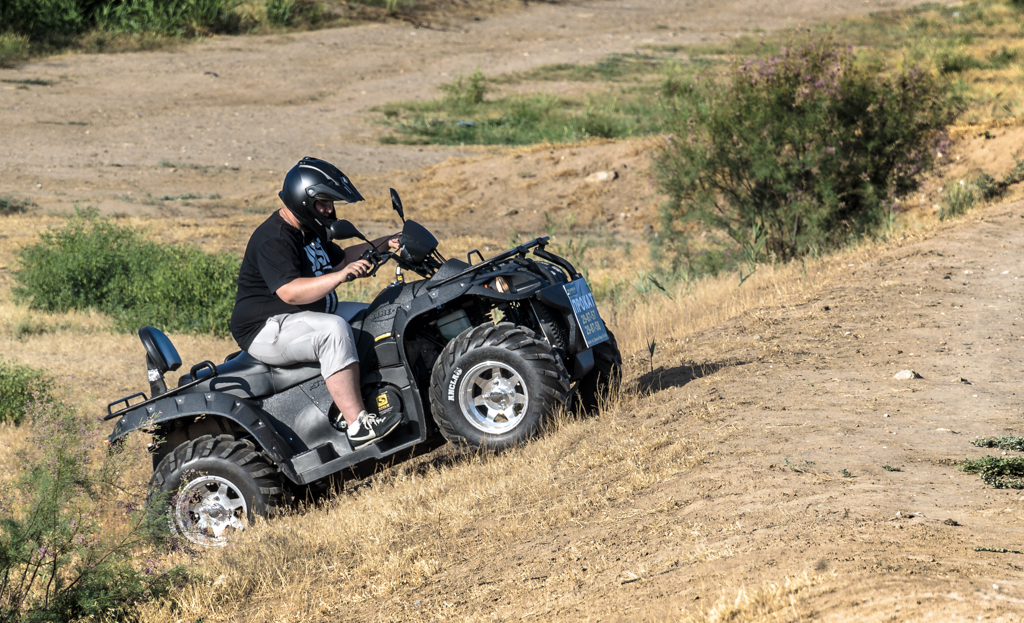helmet: (278, 156, 356, 225)
